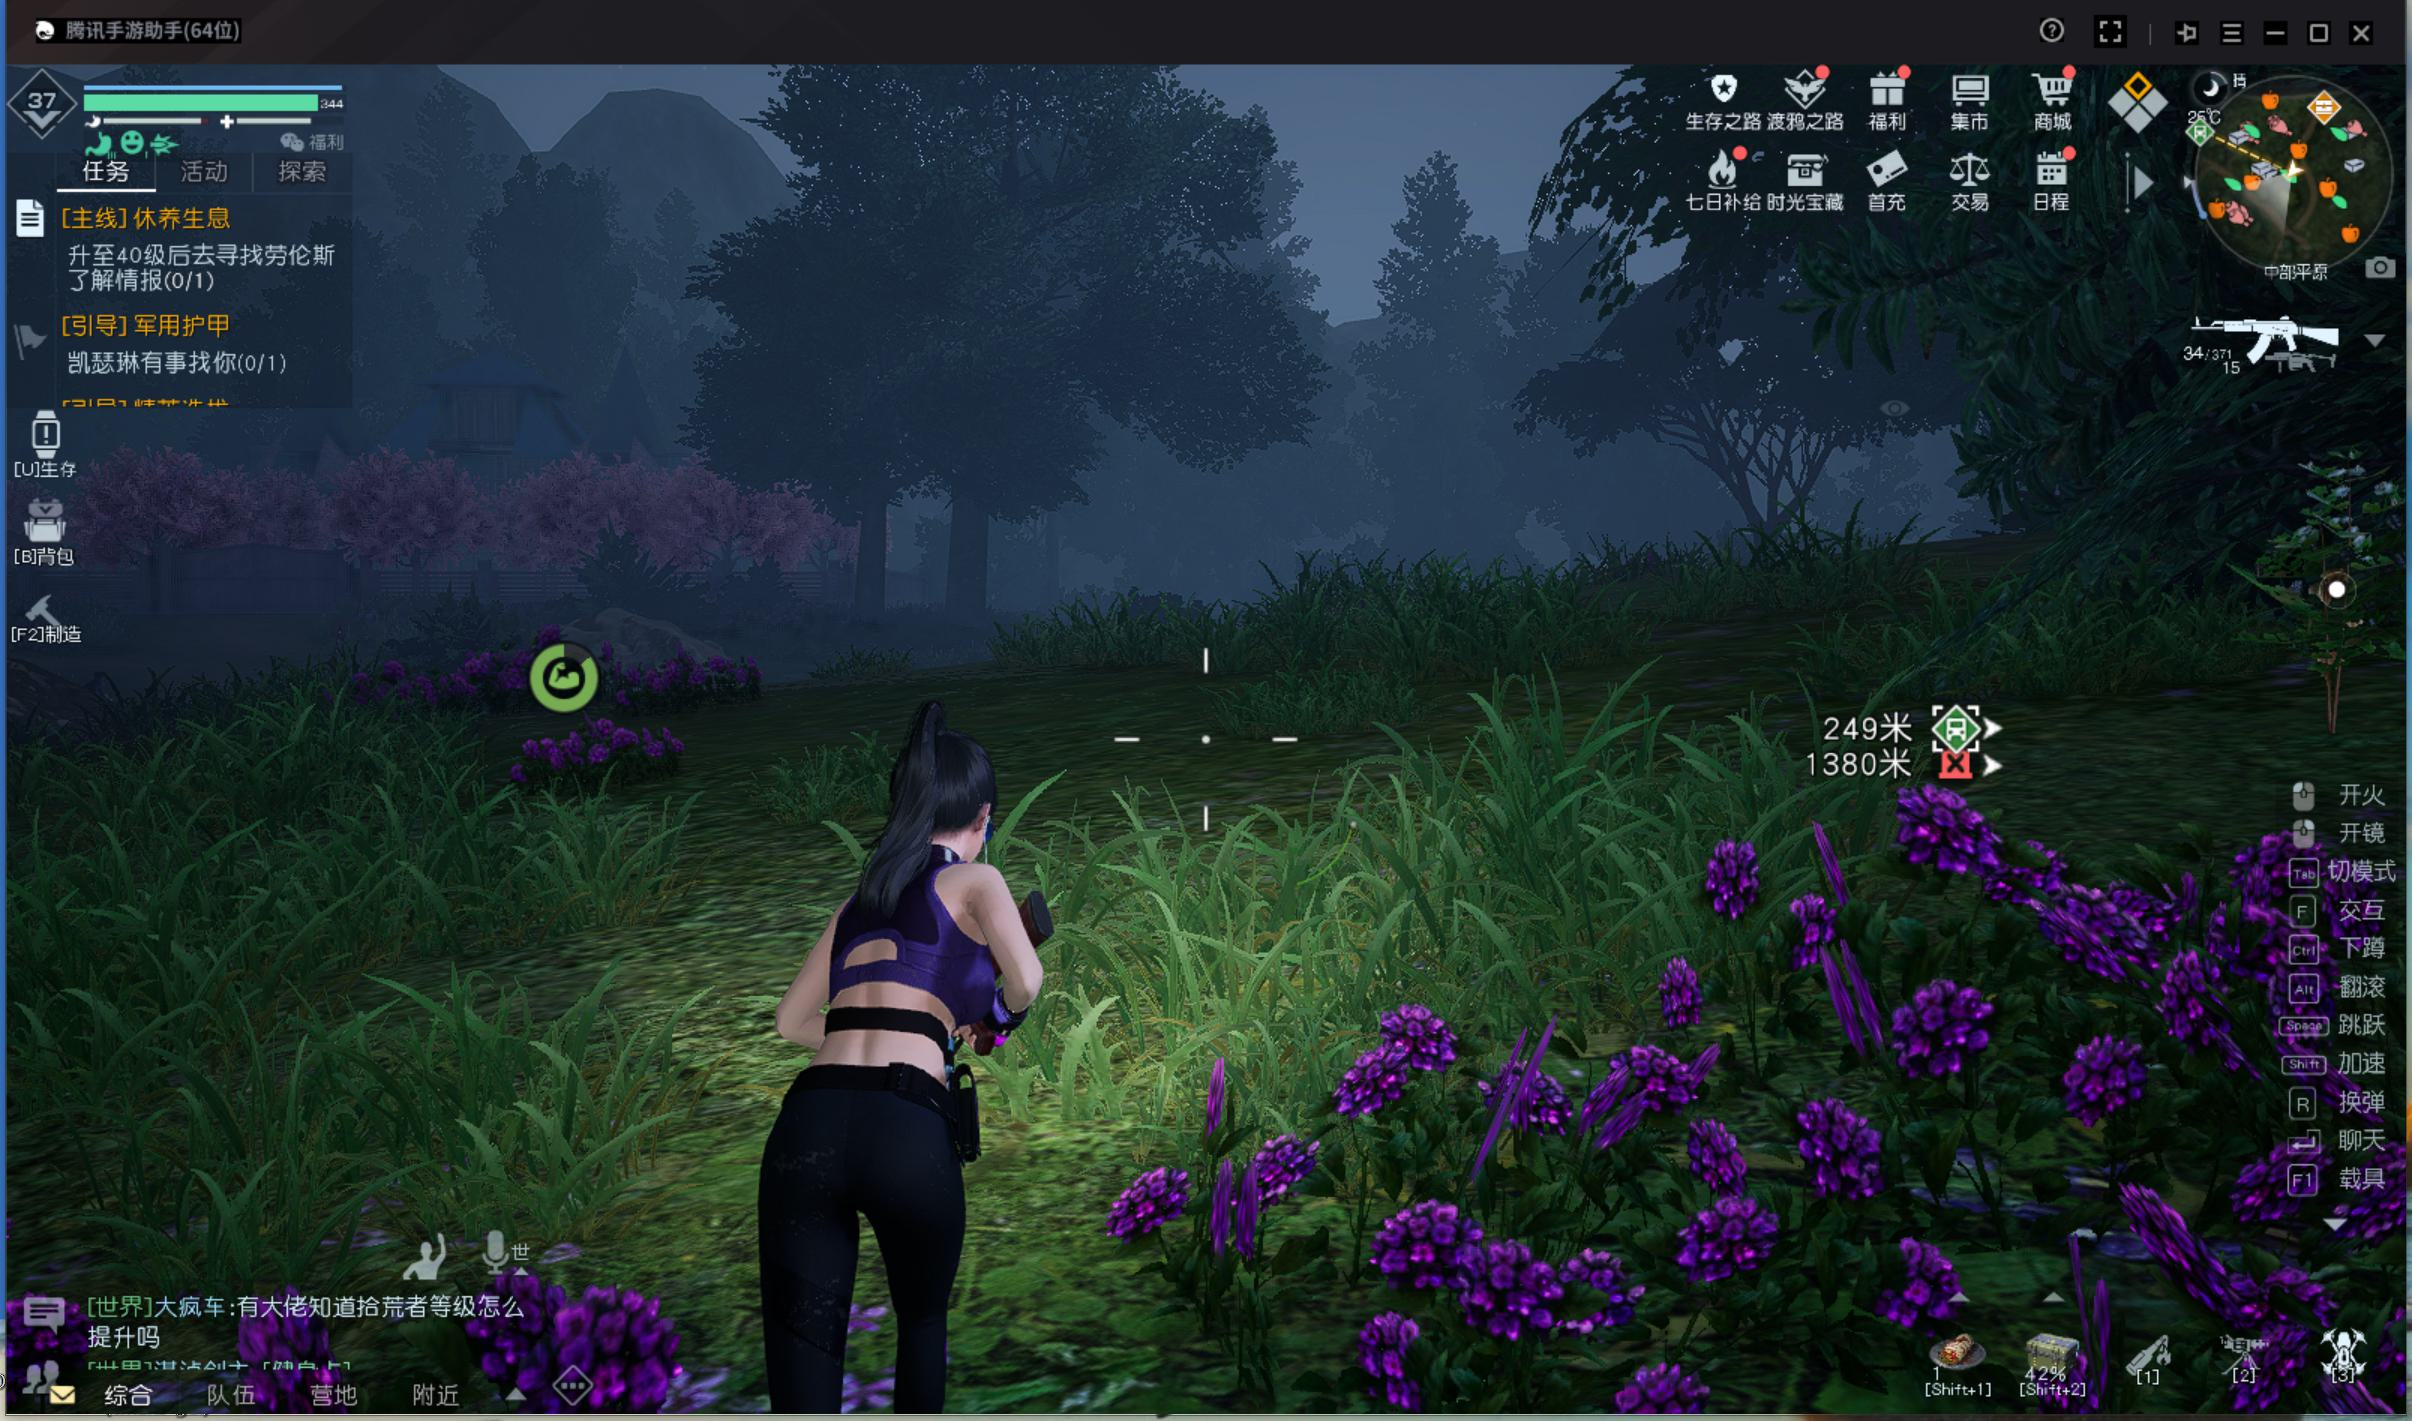tree: (939, 514, 995, 641), (846, 518, 895, 633)
